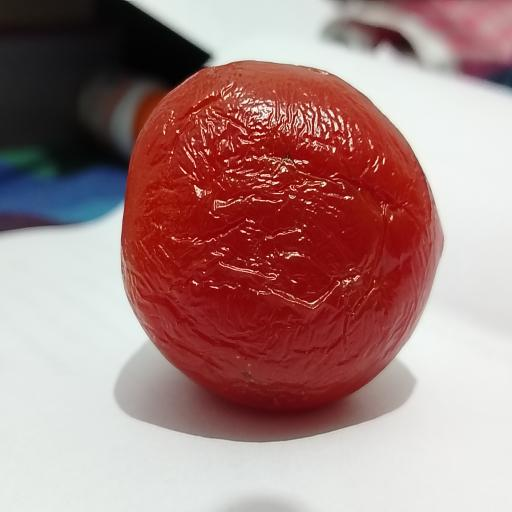spoiled: (122, 62, 442, 409)
